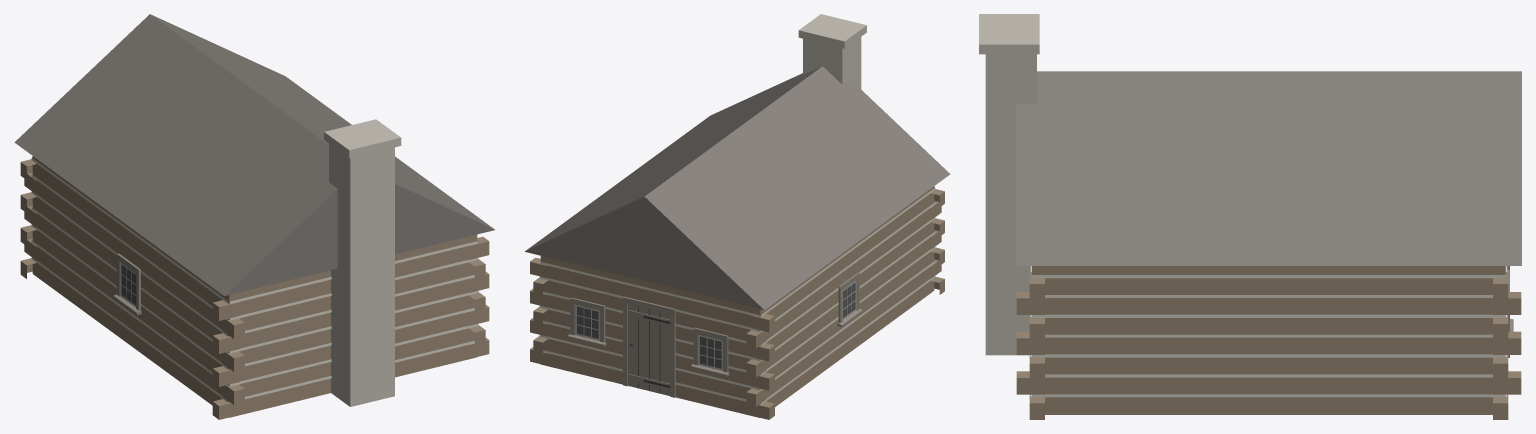
Rendered from recon_1835_south_d1_018__inferred_1835.glb.
3 views of the same model, side by side, from view 1: azimuth 30°, elevation 25°; view 2: azimuth 150°, elevation 25°; view 3: azimuth 270°, elevation 25° (orthographic). The views are drawn at different scales.
Parts seen in each view (by area): view 1: recon_1835_south_d1_018__inferred_1835; view 2: recon_1835_south_d1_018__inferred_1835; view 3: recon_1835_south_d1_018__inferred_1835.
Part boxes in pixels (x1,y1,x2,y2): recon_1835_south_d1_018__inferred_1835: (14,14,494,419); recon_1835_south_d1_018__inferred_1835: (524,14,950,419); recon_1835_south_d1_018__inferred_1835: (979,14,1521,419).
Size of the model in its own units: 5.85 by 5.35 by 8.42.
